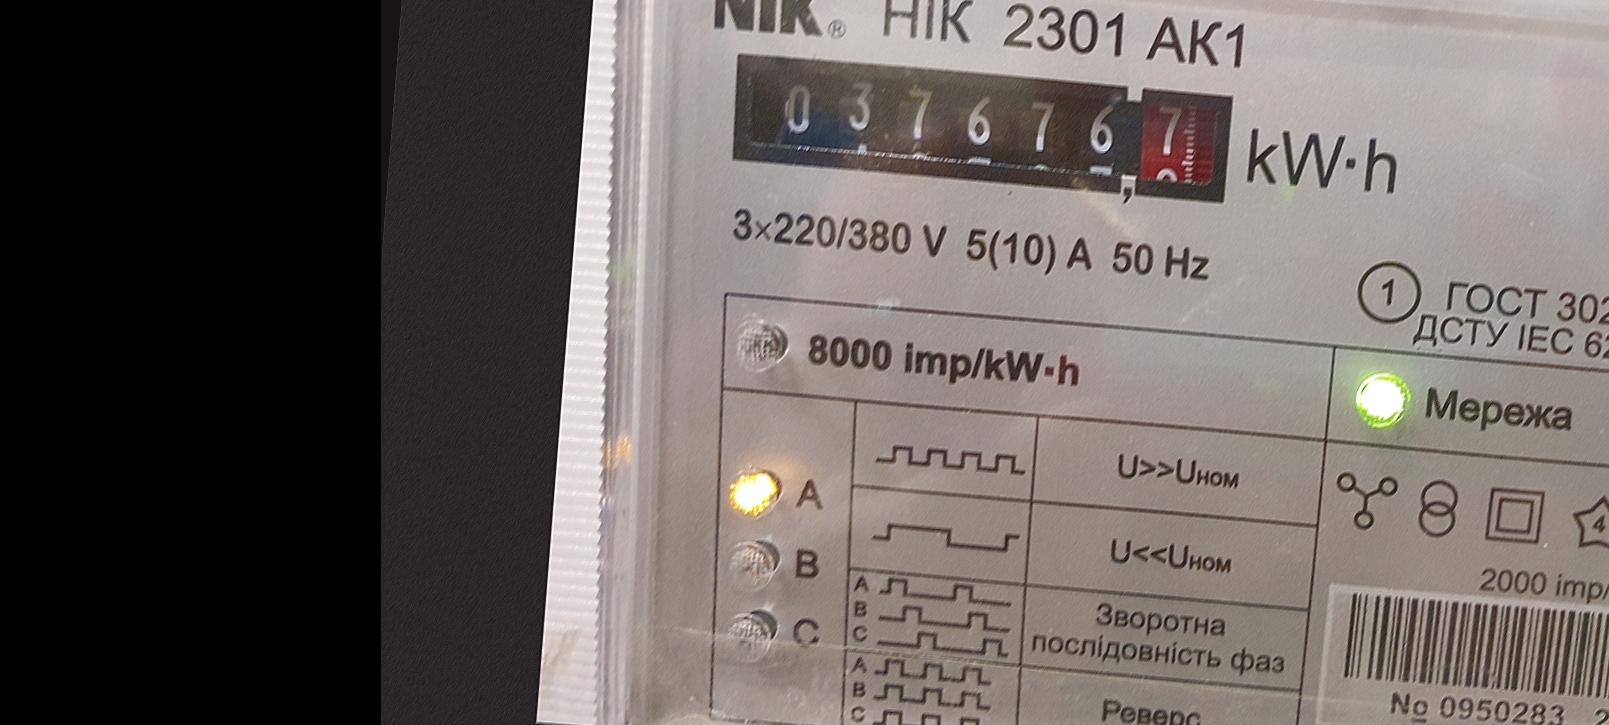0: (782, 77, 820, 135)
3: (845, 74, 877, 133)
6: (963, 89, 1000, 145), (1087, 98, 1121, 155)
7: (1025, 95, 1060, 156), (903, 82, 938, 140), (1155, 99, 1187, 157)
screen: (714, 34, 1252, 221)
